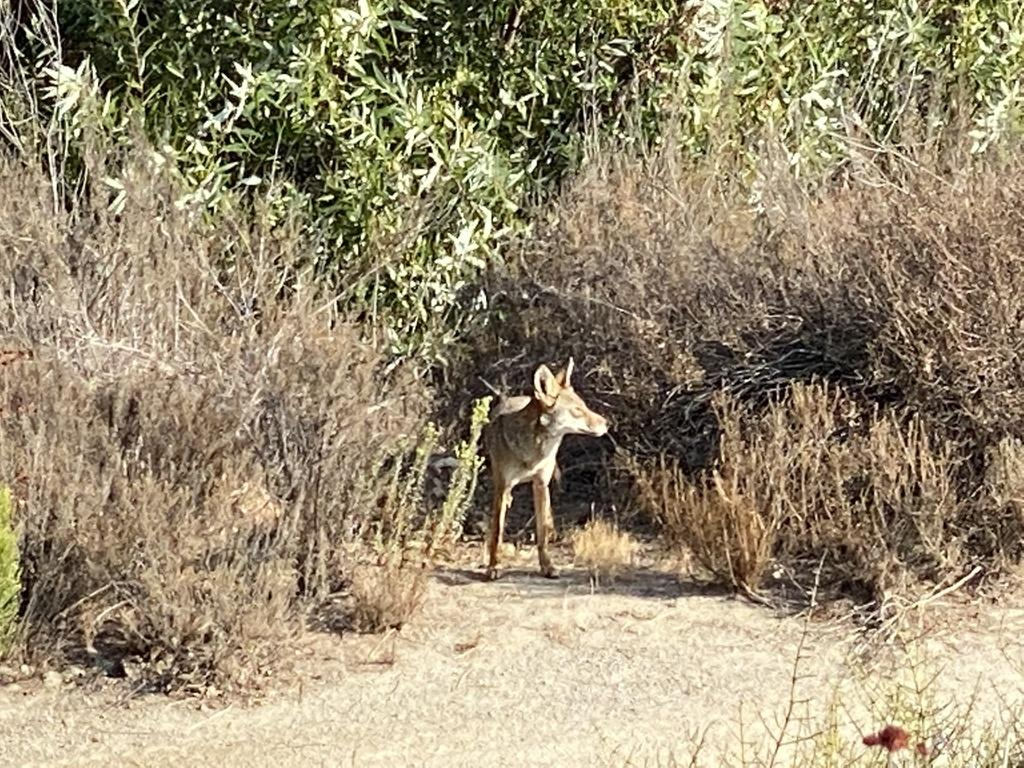Coyote: (473, 350, 612, 584)
